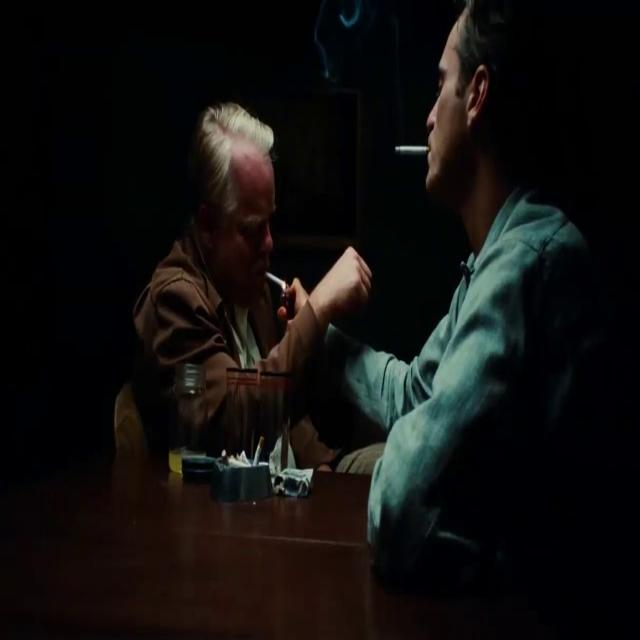Smooking: (392, 135, 430, 166), (265, 262, 292, 300)
